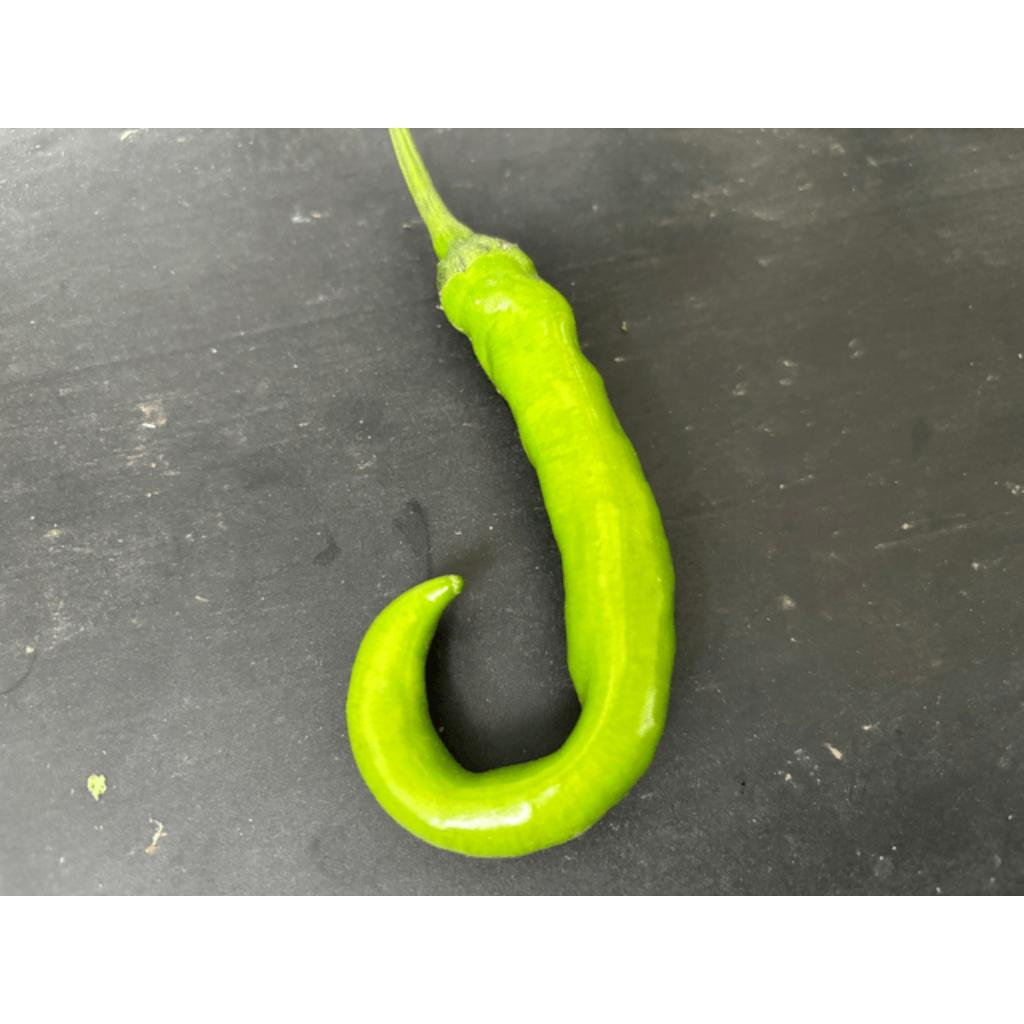chili: (343, 231, 678, 863)
